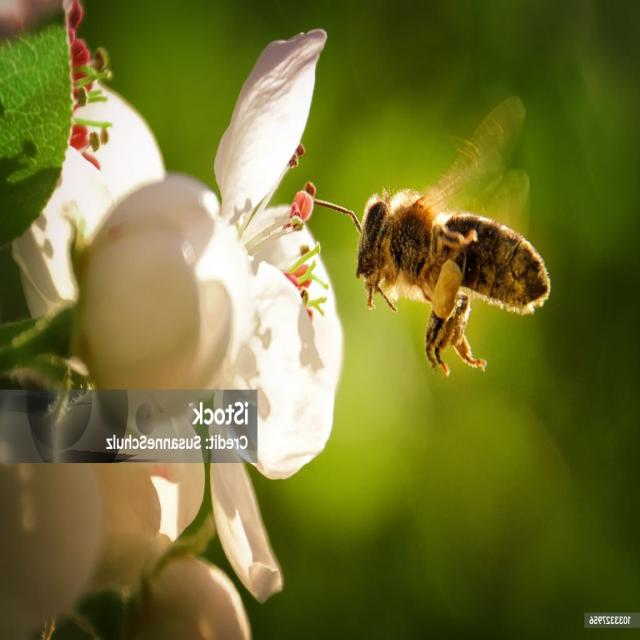bee: (312, 93, 552, 380)
